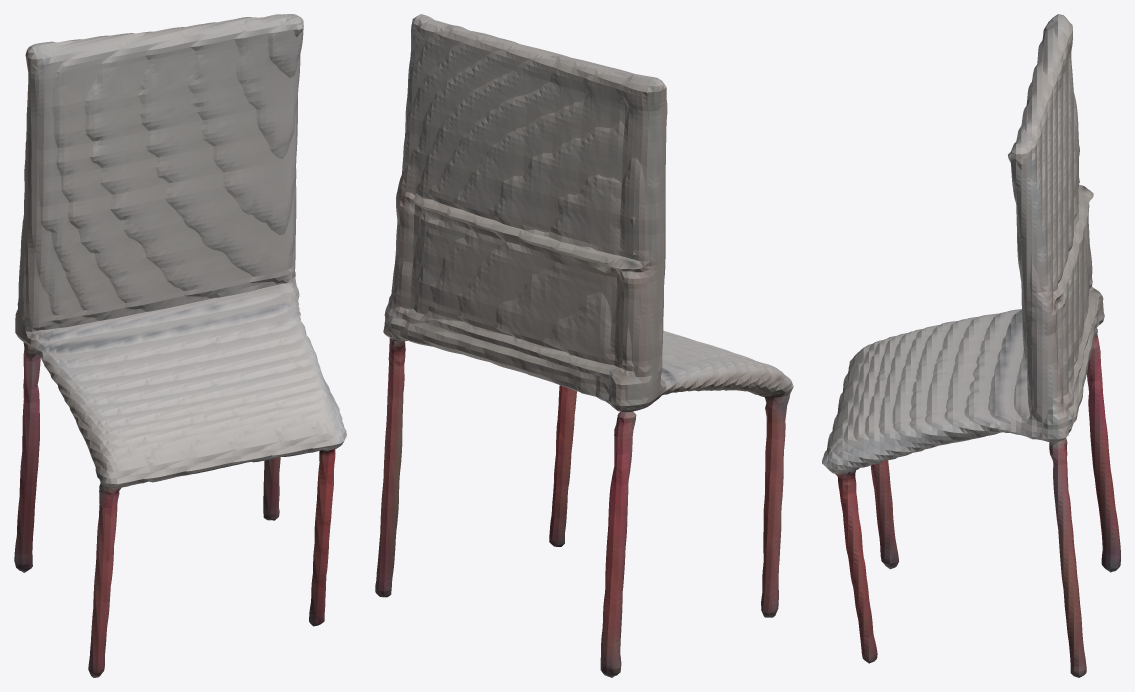
The picture shows the model from 3 angles, left to right: view 1: azimuth 30°, elevation 25°; view 2: azimuth 150°, elevation 25°; view 3: azimuth 270°, elevation 25°; orthographic projection. The views are drawn at different scales.
Parts seen in each view (by area): view 1: mesh.obj; view 2: mesh.obj; view 3: mesh.obj.
Part boxes in pixels (<box>): mesh.obj: <box>14,14,346,677</box>; mesh.obj: <box>375,14,793,677</box>; mesh.obj: <box>822,14,1120,677</box>.
Bounding box in the file's own units: 0.5303 × 1 × 0.4798.
